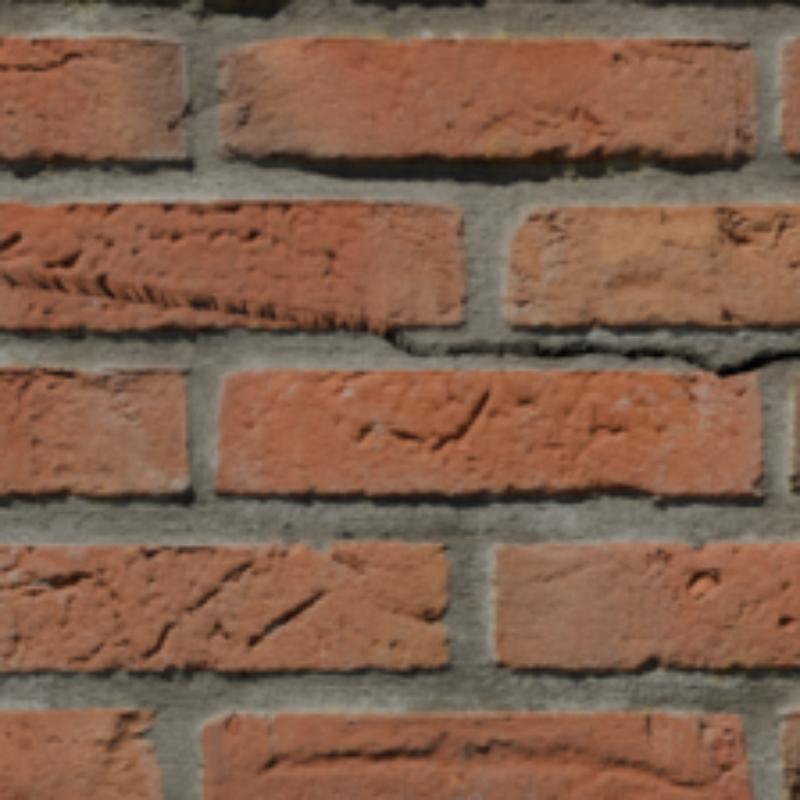pothole: (0, 271, 796, 375)
